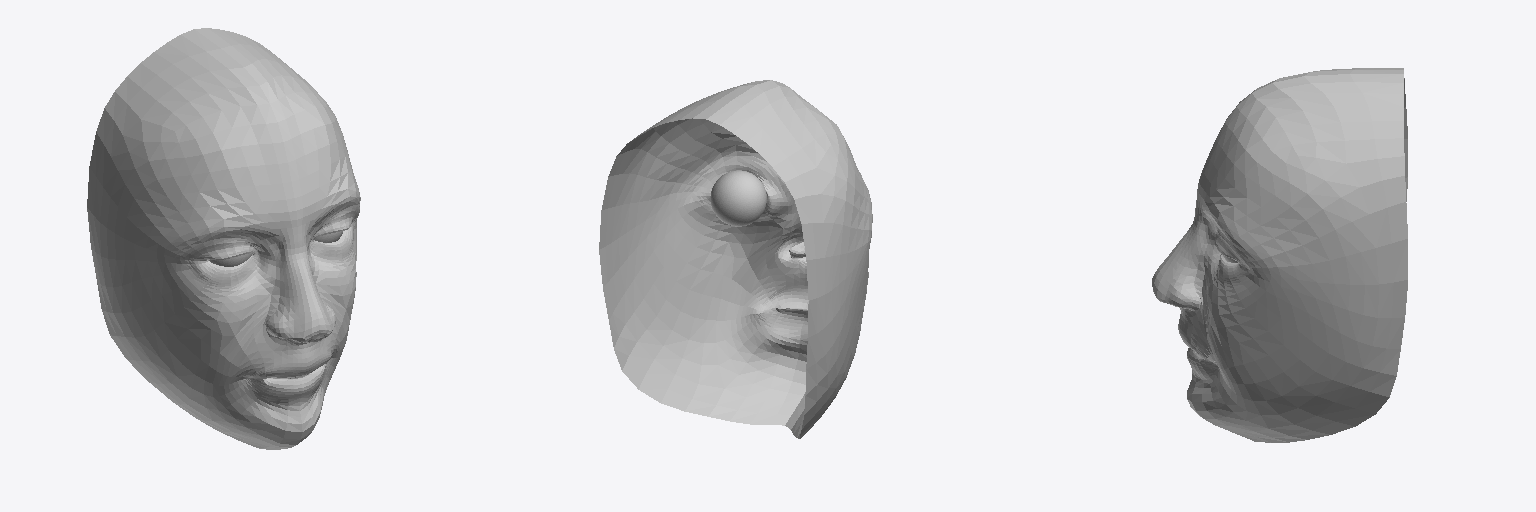
Rendered from LucGblend.obj.
The picture shows the model from 3 angles: view 1: azimuth 30°, elevation 25°; view 2: azimuth 150°, elevation 25°; view 3: azimuth 270°, elevation 25°; orthographic projection.
Parts seen in each view (by area): view 1: Cabeça.002_Cabeça.001; view 2: Cabeça.002_Cabeça.001; view 3: Cabeça.002_Cabeça.001.
Boxes of the visible parts, x1,y1,x2,y2 form: Cabeça.002_Cabeça.001: [87, 28, 360, 449]; Cabeça.002_Cabeça.001: [599, 80, 872, 438]; Cabeça.002_Cabeça.001: [1152, 68, 1407, 442].
Size of the model in its own units: 2.72 by 4.43 by 2.83.